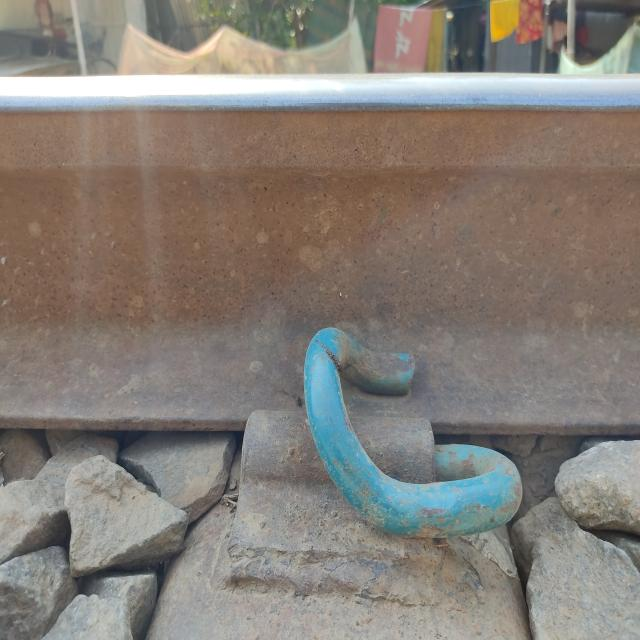non-defective: (141, 50, 539, 559)
